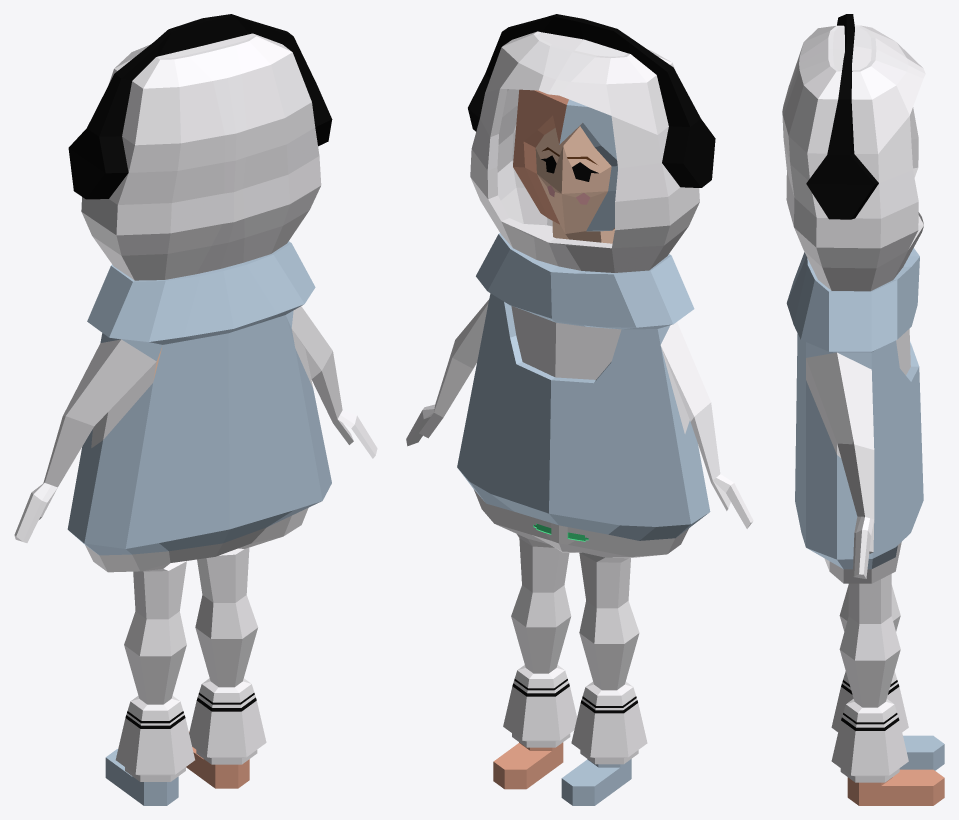
Rendered from Кася.glb.
The picture shows the model from 3 angles, left to right: view 1: azimuth 30°, elevation 25°; view 2: azimuth 150°, elevation 25°; view 3: azimuth 270°, elevation 25°; orthographic projection. The views are drawn at different scales.
Visible parts, largest first — view 1: MODEL; view 2: MODEL; view 3: MODEL.
Part boxes in pixels (left/top/right/bottom): MODEL: left=14, top=14, right=377, bottom=805; MODEL: left=406, top=14, right=753, bottom=805; MODEL: left=782, top=14, right=944, bottom=805.
Size of the model in its own units: 0.3444 by 0.7063 by 0.1379.
